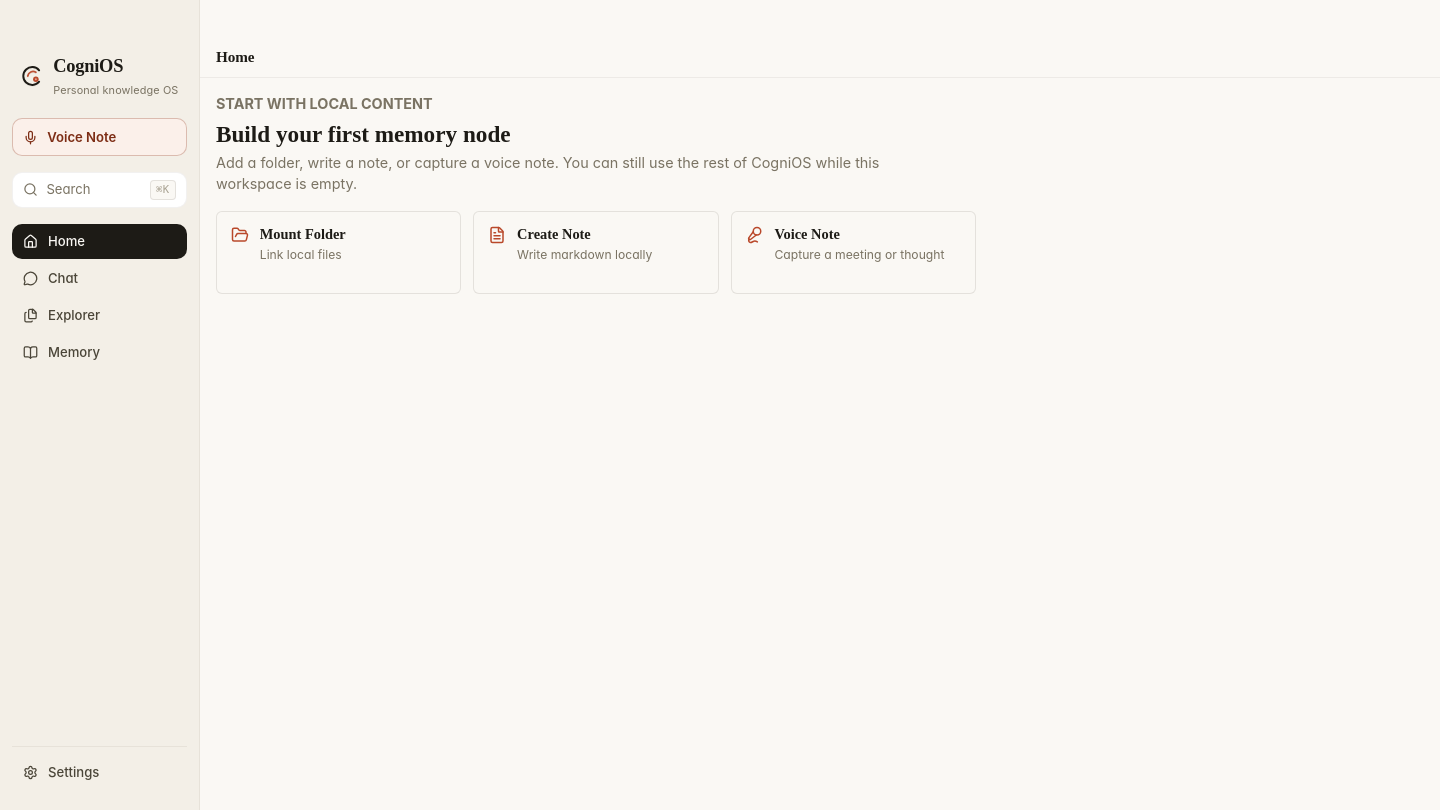
Test case: App › renders the Explorer welcome state from the Explorer navigation item
The image size is (1440, 810).
Click the button "Explorer" at (100, 316), box [12,298,187,333]
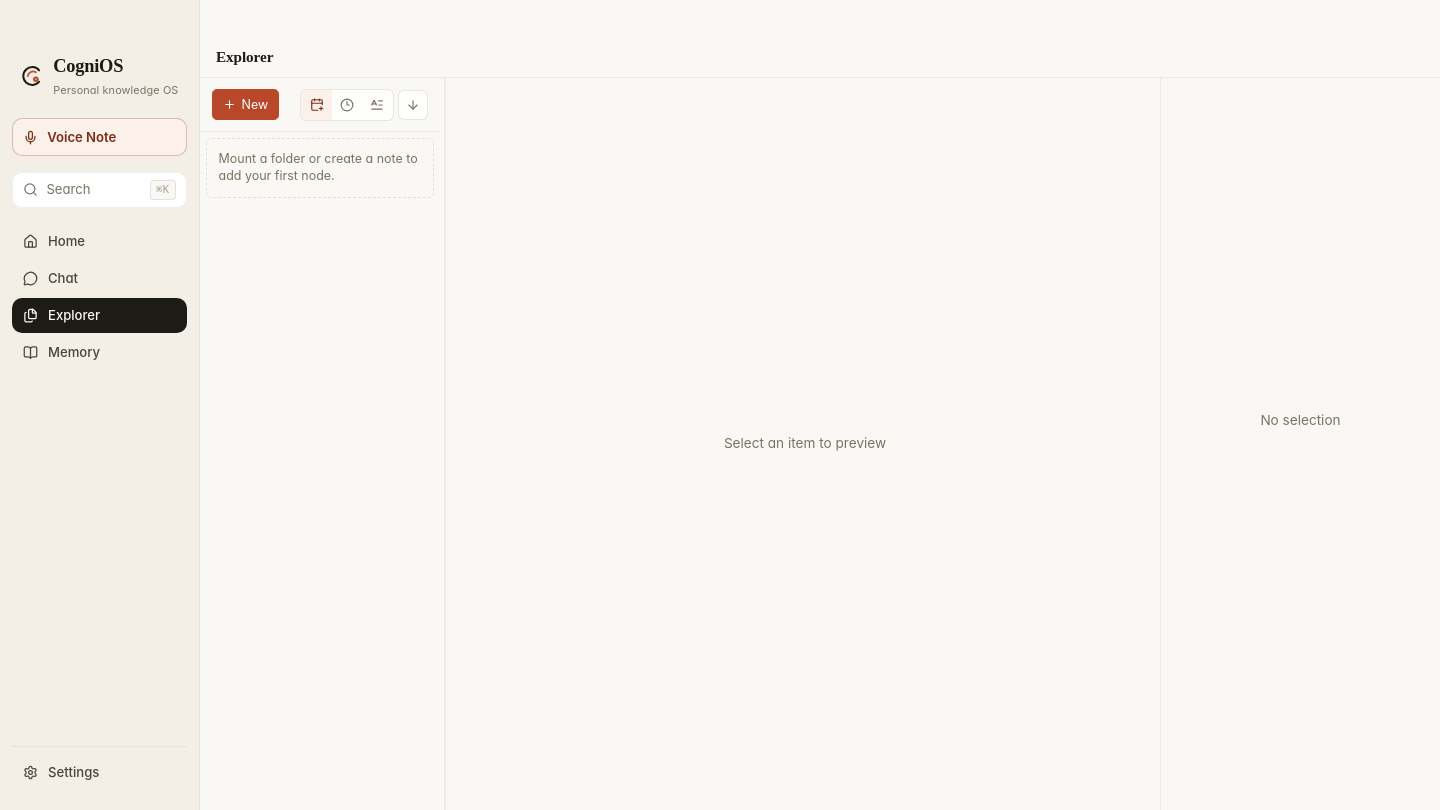
Check: the text "Select an item to preview" is shown, box [724,434,886,454]
Check: the text "No selection" is shown, box [1260,411,1341,431]
